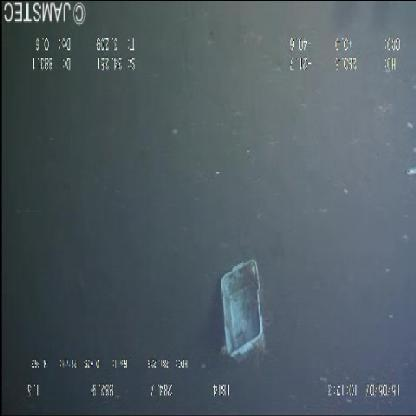Rác: (217, 245, 273, 371)
